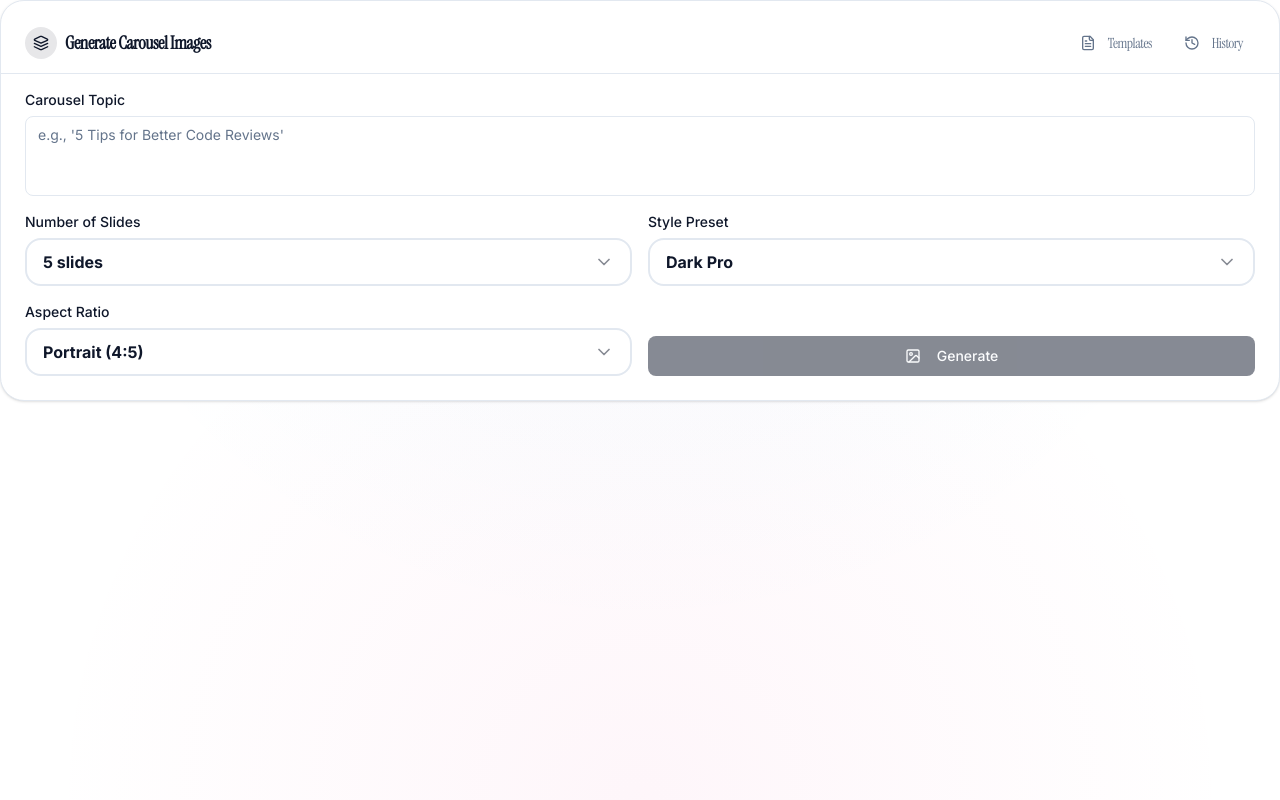
CarouselGenerator › Template Library UI › should open templates panel when Templates button is clicked
The width and height of the screenshot is (1280, 800).
What coordinates should you click on to do the following:
click the button "Templates"
I would click on:
 (1116, 43)
Its box is [1068,25,1164,61].
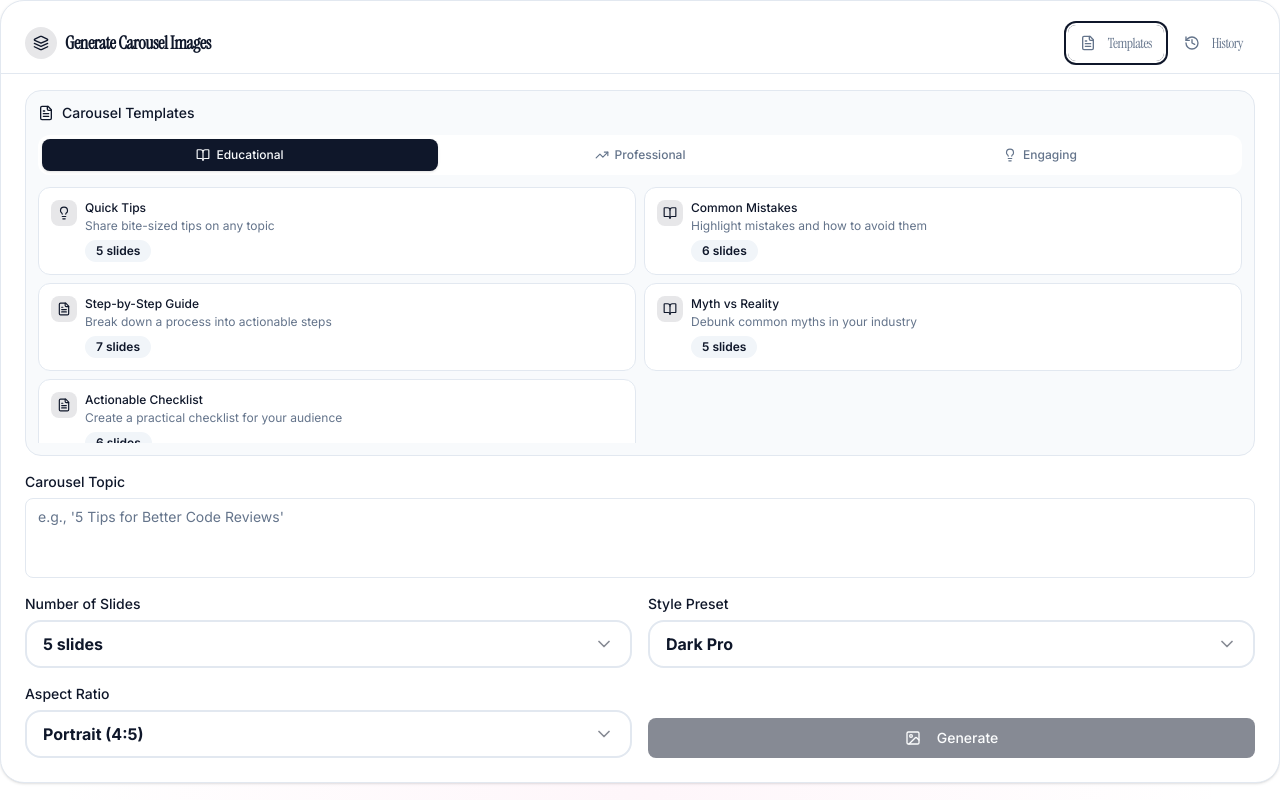
Expected: the text "Carousel Templates" is shown, [62,103,194,123]
